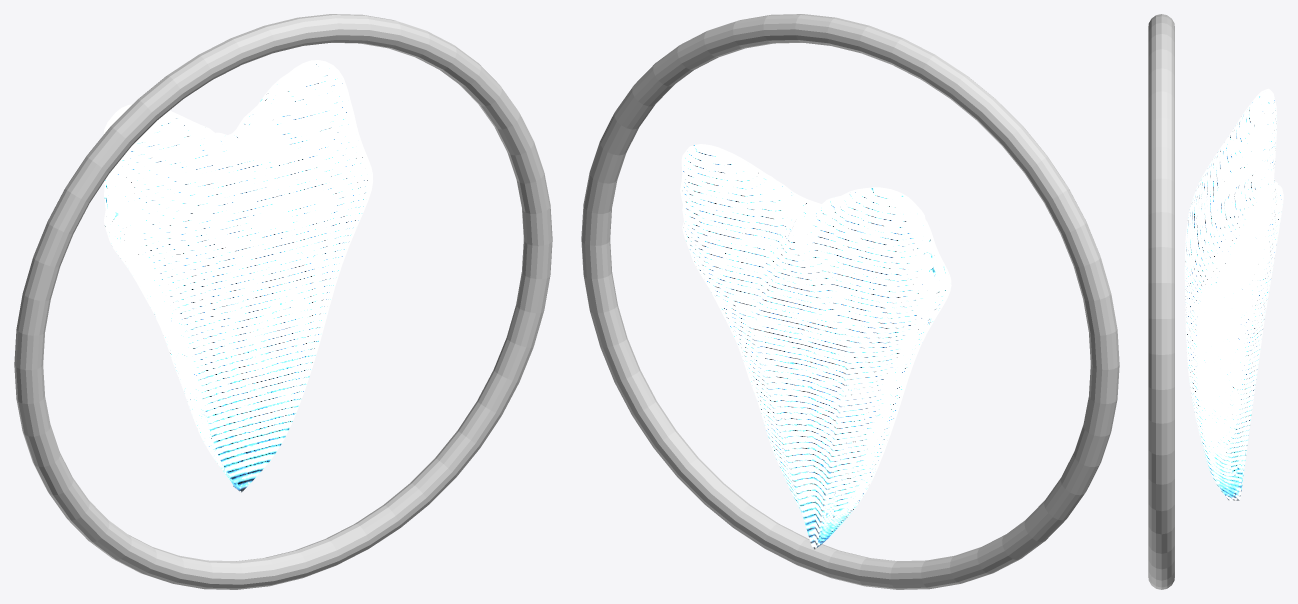
Rendered from SharkTooth 1.fbx.
The picture shows the model from 3 angles, left to right: view 1: azimuth 30°, elevation 25°; view 2: azimuth 150°, elevation 25°; view 3: azimuth 270°, elevation 25°; orthographic projection. The views are drawn at different scales.
Parts seen in each view (by area): view 1: SharkTooth.001, Torus; view 2: SharkTooth.001, Torus; view 3: SharkTooth.001, Torus.
Boxes of the visible parts, bbox=[...] form: SharkTooth.001: bbox=[103, 60, 372, 492]; Torus: bbox=[14, 14, 552, 589]; SharkTooth.001: bbox=[680, 144, 951, 549]; Torus: bbox=[581, 14, 1119, 589]; SharkTooth.001: bbox=[1184, 88, 1283, 500]; Torus: bbox=[1148, 14, 1174, 589].
Bounding box in the file's own units: 170 × 170 × 40.03.
